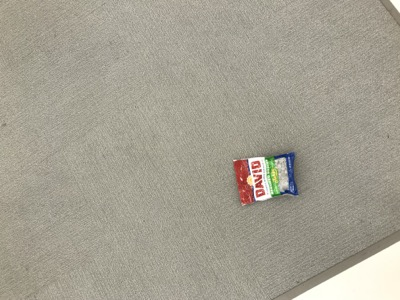sunflower seed: (232, 153, 299, 207)
